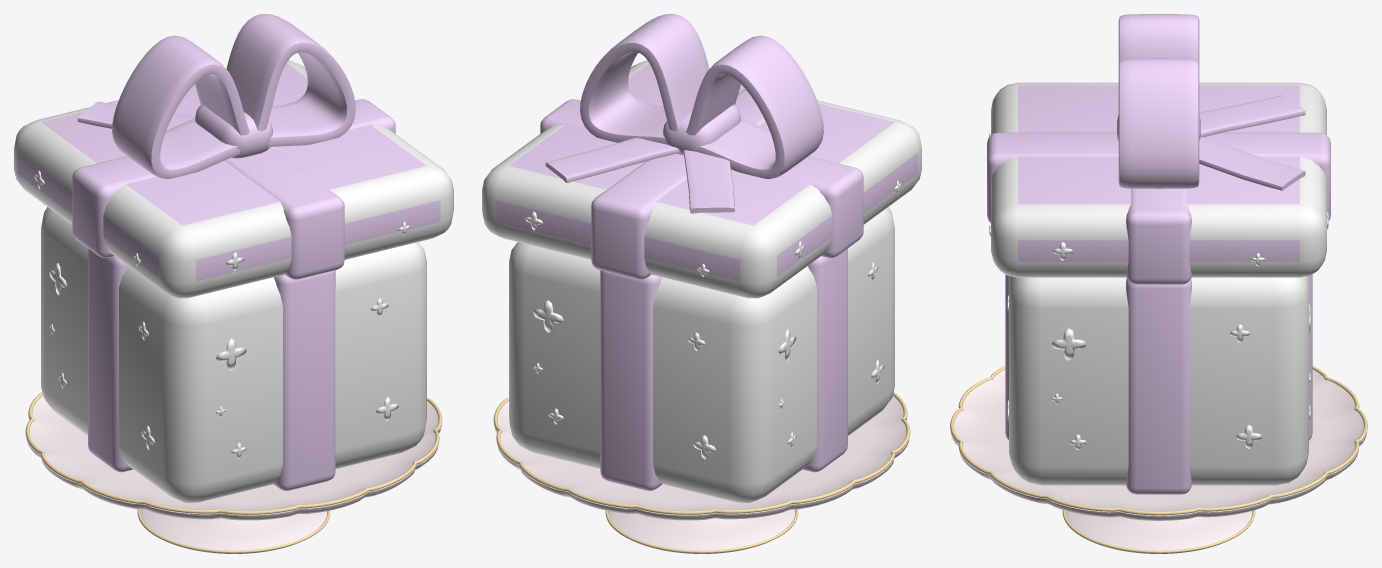
The model's file is decor.glb.
3 views of the same model, side by side, from view 1: azimuth 30°, elevation 25°; view 2: azimuth 150°, elevation 25°; view 3: azimuth 270°, elevation 25° (orthographic).
Visible parts, largest first — view 1: DreamGift_LidMesh, DreamGift_Body, Stand_Body, Stand_Rim, DreamGift_BodyStars, Stand_Foot; view 2: DreamGift_LidMesh, DreamGift_Body, Stand_Body, Stand_Rim, DreamGift_BodyStars, Stand_Foot; view 3: DreamGift_LidMesh, DreamGift_Body, Stand_Body, Stand_Rim, DreamGift_BodyStars, Stand_Foot.
Boxes of the visible parts, <box> form: DreamGift_LidMesh: <box>14,14,453,298</box>; DreamGift_Body: <box>41,207,426,502</box>; Stand_Body: <box>25,395,441,553</box>; Stand_Rim: <box>25,392,442,514</box>; DreamGift_BodyStars: <box>49,263,398,458</box>; Stand_Foot: <box>137,509,330,553</box>; DreamGift_LidMesh: <box>482,14,921,298</box>; DreamGift_Body: <box>509,207,894,502</box>; Stand_Body: <box>494,395,910,553</box>; Stand_Rim: <box>493,392,910,514</box>; DreamGift_BodyStars: <box>533,262,884,459</box>; Stand_Foot: <box>605,509,798,553</box>; DreamGift_LidMesh: <box>987,14,1330,284</box>; DreamGift_Body: <box>1005,274,1312,494</box>; Stand_Body: <box>950,369,1367,553</box>; Stand_Rim: <box>950,366,1367,515</box>; DreamGift_BodyStars: <box>1007,295,1310,450</box>; Stand_Foot: <box>1062,510,1255,553</box>.
Size of the model in its own units: 1.39 by 1.75 by 1.39.
